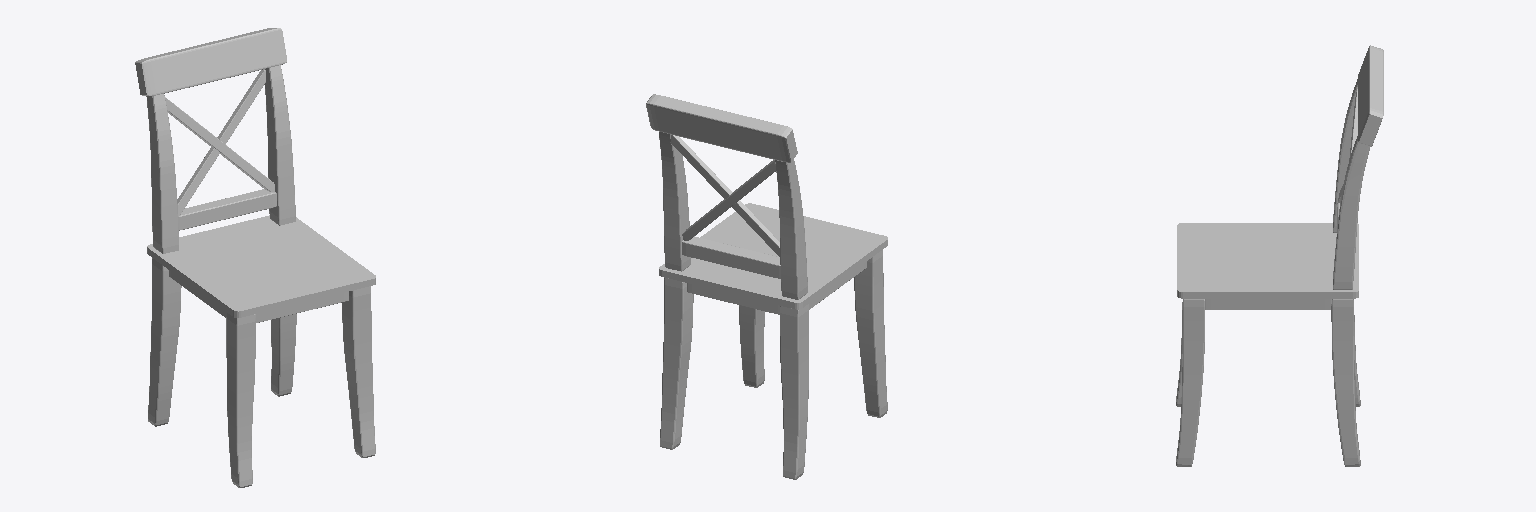
Rendered from chair.obj.
The picture shows the model from 3 angles: view 1: azimuth 30°, elevation 25°; view 2: azimuth 150°, elevation 25°; view 3: azimuth 270°, elevation 25°; orthographic projection.
Visible parts, largest first — view 1: Cube.009; view 2: Cube.009; view 3: Cube.009.
Part boxes in pixels (x1,y1,x2,y2): Cube.009: (135,28,375,487); Cube.009: (646,94,887,479); Cube.009: (1176,45,1383,466).
Size of the model in its own units: 0.3942 by 0.9423 by 0.4967.